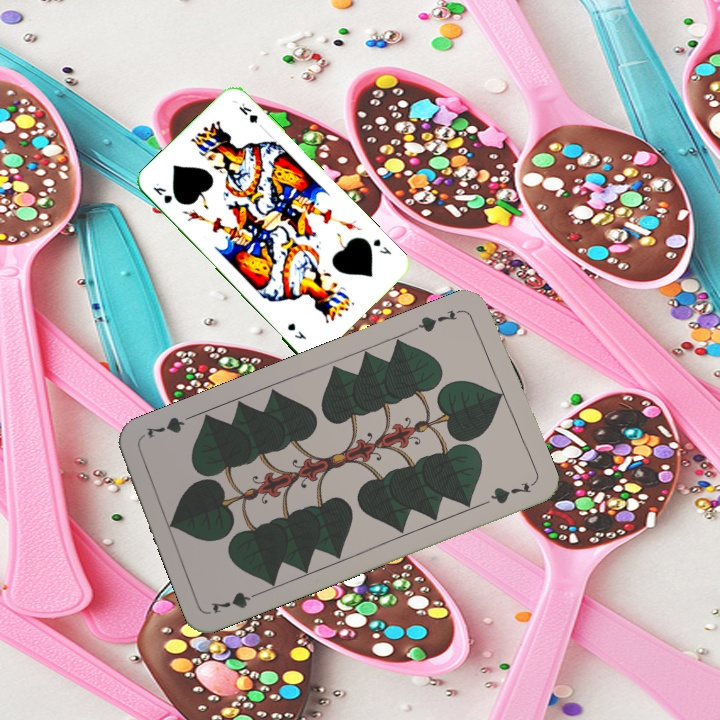G7: (409, 305, 466, 335), (207, 587, 265, 616)
GK: (149, 179, 175, 206), (369, 235, 394, 257)
